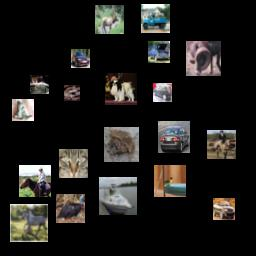airplane: (30, 75, 49, 94)
automobile: (158, 121, 190, 153), (213, 198, 235, 220), (148, 41, 170, 63), (153, 83, 172, 102), (71, 49, 90, 68)
bird: (154, 165, 186, 197), (56, 194, 85, 223)
cat: (59, 149, 88, 178), (12, 99, 34, 121)
deer: (186, 41, 221, 76), (95, 5, 124, 34)
dog: (105, 73, 137, 105)
frog: (104, 127, 139, 162), (64, 85, 80, 101)
ship: (99, 177, 137, 215)
truck: (141, 4, 170, 33)
